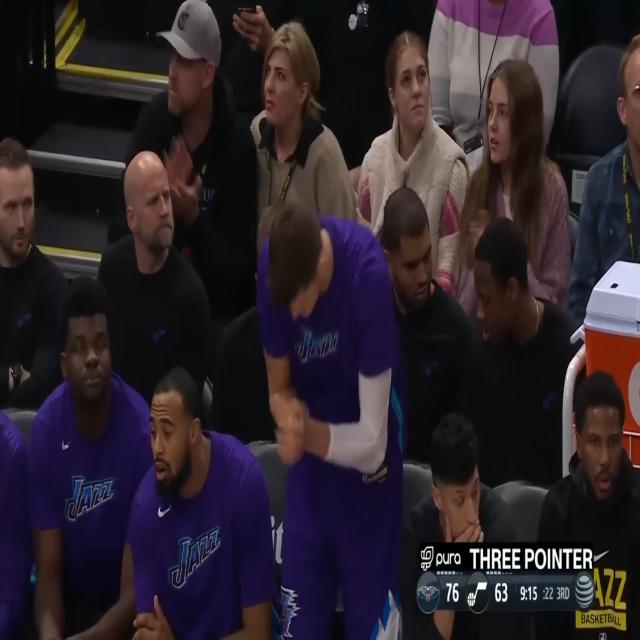Overlay: (416, 539, 596, 614)
Scoreboard: (417, 572, 572, 614)
